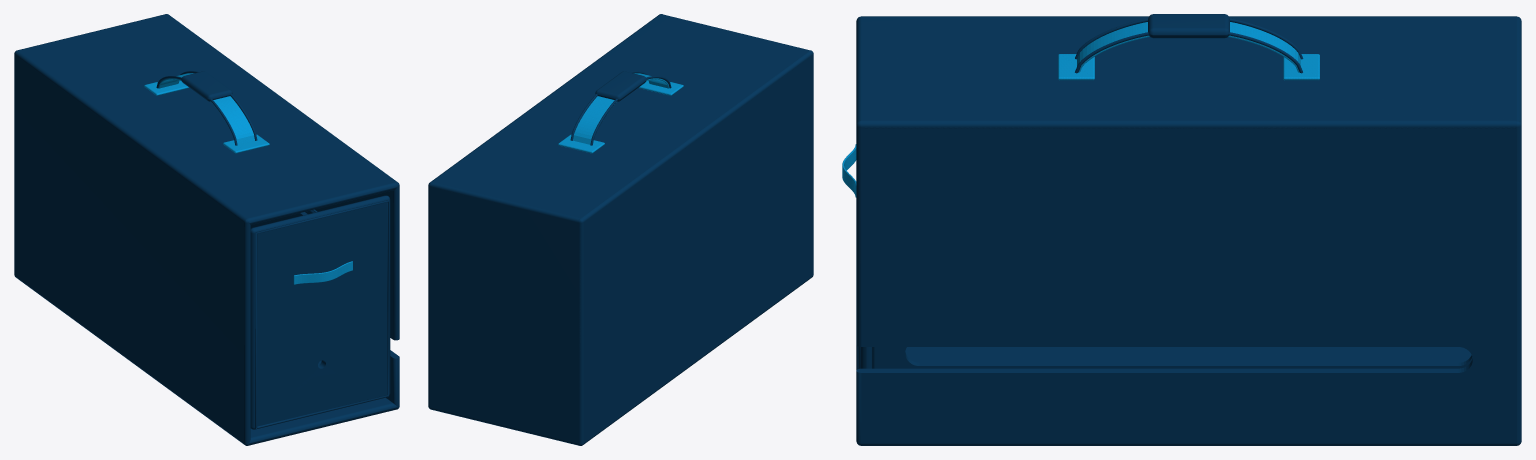
File: belt-volume-4-storage.glb
3 views of the same model, side by side, from view 1: azimuth 30°, elevation 25°; view 2: azimuth 150°, elevation 25°; view 3: azimuth 270°, elevation 25° (orthographic). The views are drawn at different scales.
Parts seen in each view (by area): view 1: Cabinet_side, Cabinet_top, Drawer_front, Cabinet_side.001, Cabinet_bottom, Front_sewn_edge, Carry_handle_webbing, Carry_handle_padded_grip, Drawer_webbing_pull, Cabinet_back, Carry_handle_anchor; view 2: Cabinet_side, Cabinet_back, Cabinet_top, Carry_handle_webbing, Carry_handle_padded_grip, Cabinet_side.001, Carry_handle_anchor.001; view 3: Cabinet_side.001, Cabinet_top, Cabinet_bottom, Drawer_side.001, Carry_handle_padded_grip, Cabinet_back, Carry_handle_webbing, Carry_handle_anchor, Carry_handle_anchor.001, Carry_handle_binding.001.
Boxes of the visible parts, x1=… form: Cabinet_side: x1=15, y1=50, x2=250, y2=445; Cabinet_top: x1=15, y1=14, x2=397, y2=224; Drawer_front: x1=250, y1=195, x2=390, y2=429; Cabinet_side.001: x1=166, y1=14, x2=399, y2=409; Cabinet_bottom: x1=15, y1=275, x2=397, y2=445; Front_sewn_edge: x1=255, y1=200, x2=389, y2=428; Carry_handle_webbing: x1=158, y1=73, x2=254, y2=144; Carry_handle_padded_grip: x1=181, y1=71, x2=232, y2=101; Drawer_webbing_pull: x1=293, y1=261, x2=352, y2=284; Cabinet_back: x1=14, y1=14, x2=166, y2=275; Carry_handle_anchor: x1=223, y1=134, x2=269, y2=153; Cabinet_side: x1=579, y1=50, x2=813, y2=445; Cabinet_back: x1=428, y1=182, x2=583, y2=445; Cabinet_top: x1=432, y1=14, x2=812, y2=218; Carry_handle_webbing: x1=573, y1=73, x2=669, y2=144; Carry_handle_padded_grip: x1=595, y1=71, x2=646, y2=101; Cabinet_side.001: x1=428, y1=14, x2=661, y2=409; Carry_handle_anchor.001: x1=558, y1=134, x2=604, y2=153; Cabinet_side.001: x1=856, y1=120, x2=1521, y2=445; Cabinet_top: x1=856, y1=17, x2=1516, y2=128; Cabinet_bottom: x1=856, y1=345, x2=1515, y2=442; Drawer_side.001: x1=872, y1=347, x2=1472, y2=368; Carry_handle_padded_grip: x1=1148, y1=14, x2=1229, y2=38; Cabinet_back: x1=1516, y1=16, x2=1521, y2=445; Carry_handle_webbing: x1=1077, y1=22, x2=1300, y2=72; Carry_handle_anchor: x1=1058, y1=54, x2=1094, y2=80; Carry_handle_anchor.001: x1=1283, y1=54, x2=1319, y2=80; Carry_handle_binding.001: x1=1075, y1=32, x2=1302, y2=73.
Size of what is drawn, in the model's own units: 0.127 by 0.204 by 0.3372.
3 materials, 3 textured.
